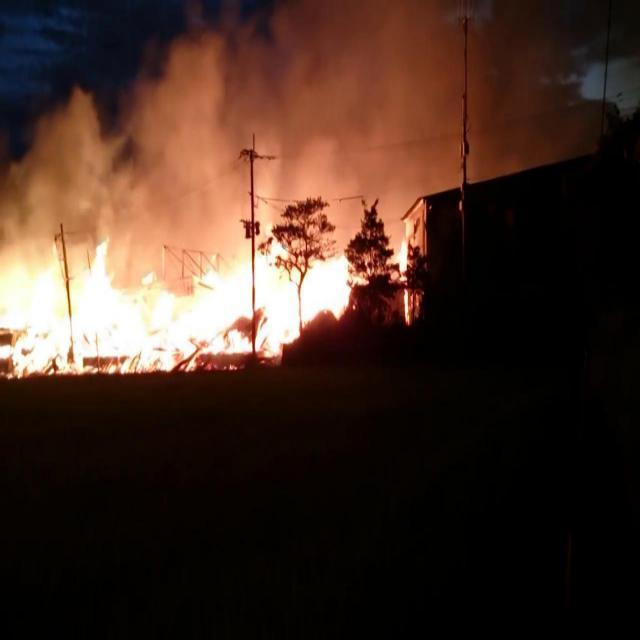Fire: (2, 225, 368, 372), (396, 236, 411, 324)
